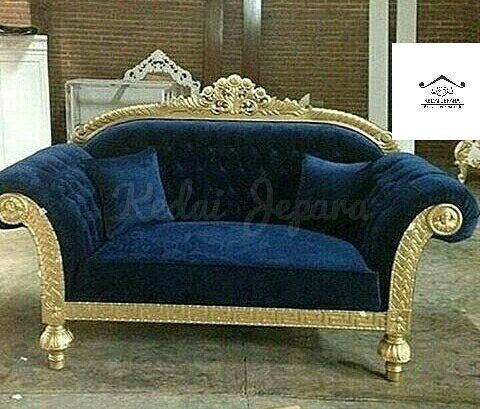Carving Chair: (23, 103, 443, 384)
